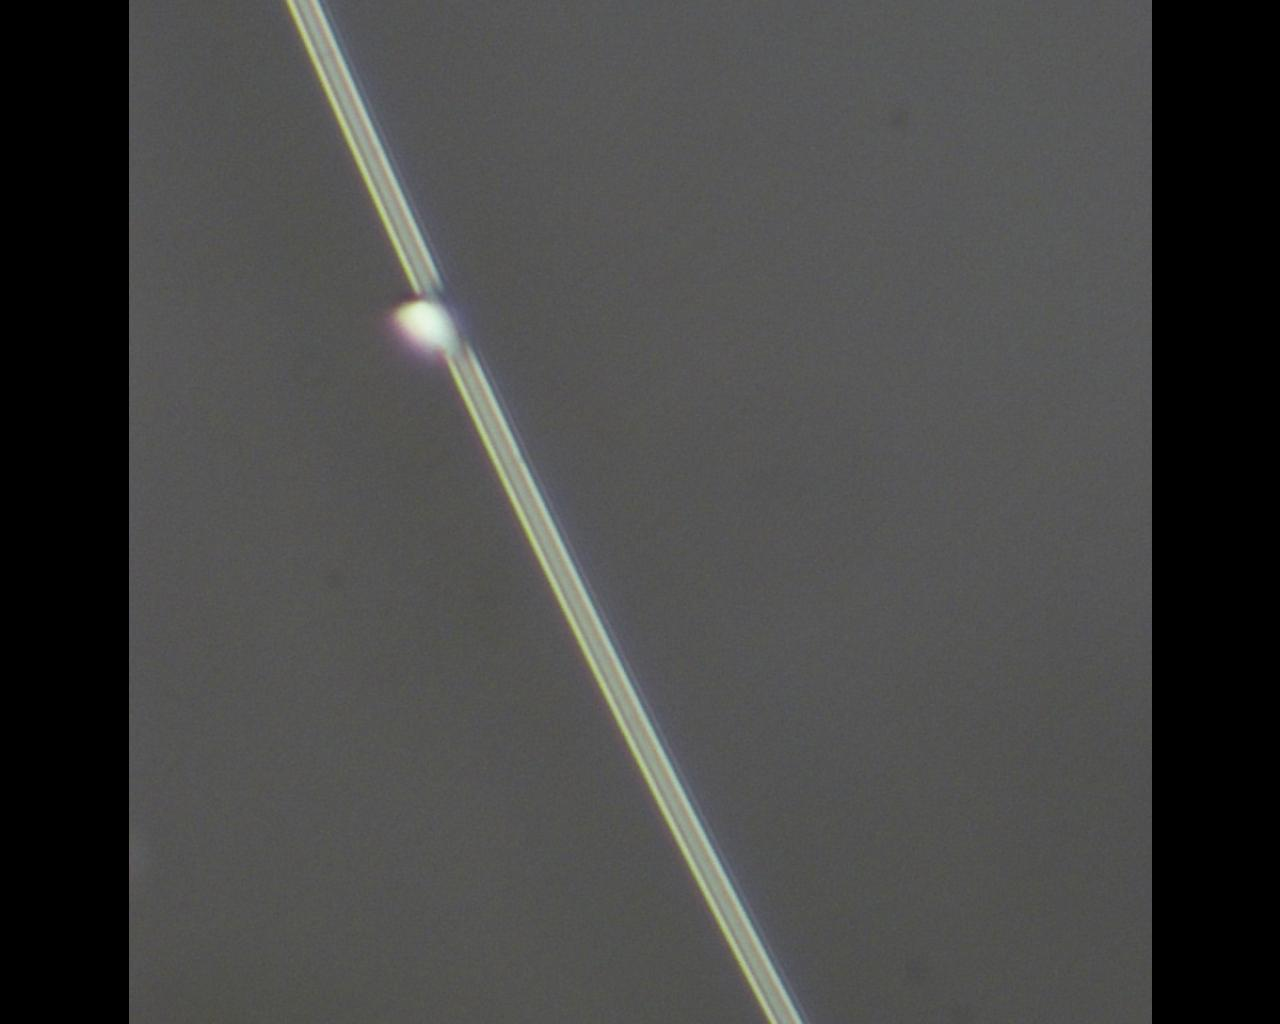fiber: (0, 396, 947, 451), (947, 2, 1280, 132)
